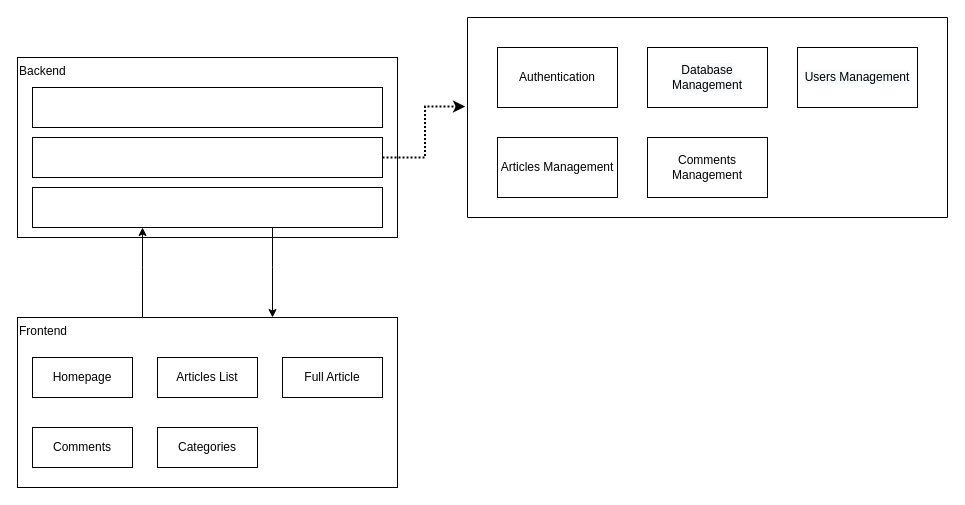
Some shapes in this 965 by 505 pixel diagram are drawn without their labels. Here are the shapes that lost their labels. From the top down, the centre of each, then its label:
(207,107): Database (PostgreSQL)
(207,157): Modules
(207,207): RESTful APIs
